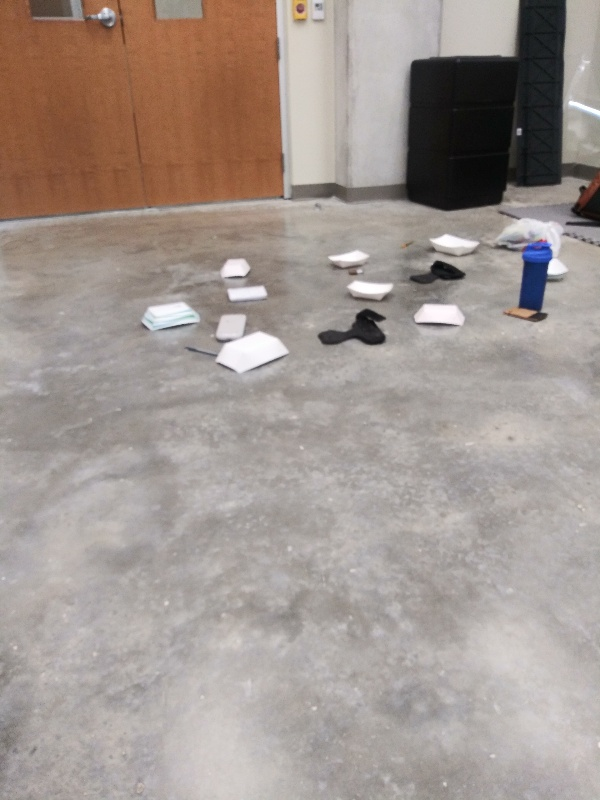plate: (210, 331, 297, 374), (135, 297, 204, 335), (422, 230, 486, 259), (408, 301, 469, 330), (344, 277, 399, 301), (324, 247, 374, 269), (218, 254, 253, 280), (548, 254, 570, 283)
